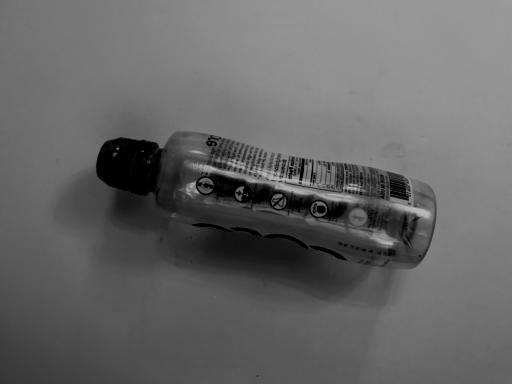bottle: (89, 129, 442, 272)
